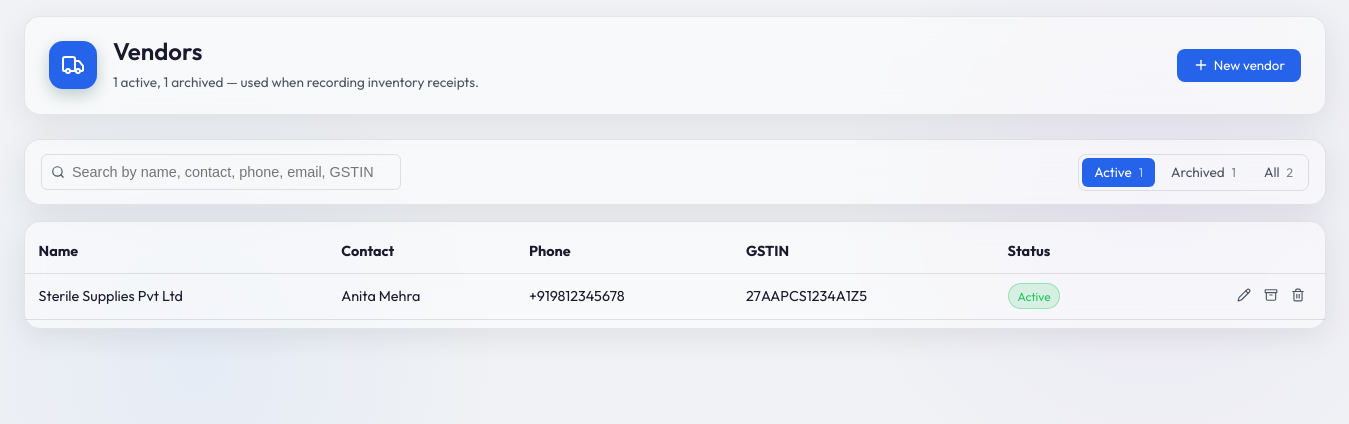
Test: <Vendors /> — mount fetch + list render › switching to "All" filter pill reveals the archived vendor with Archived badge
Expected: the text "Sterile Supplies Pvt Ltd" is shown, x1=25 y1=273 x2=328 y2=319
// Click the "All" filter pill.
Click the tab "All 2" at (1278, 172), box x1=1252 y1=158 x2=1305 y2=187
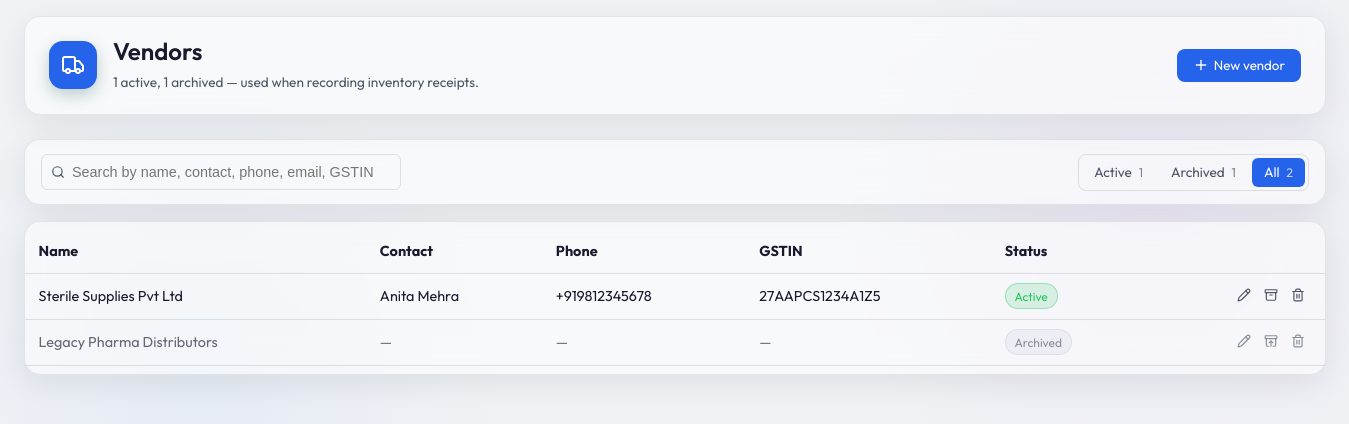
Now the text "Legacy Pharma Distributors" is shown, box x1=25 y1=319 x2=366 y2=365
